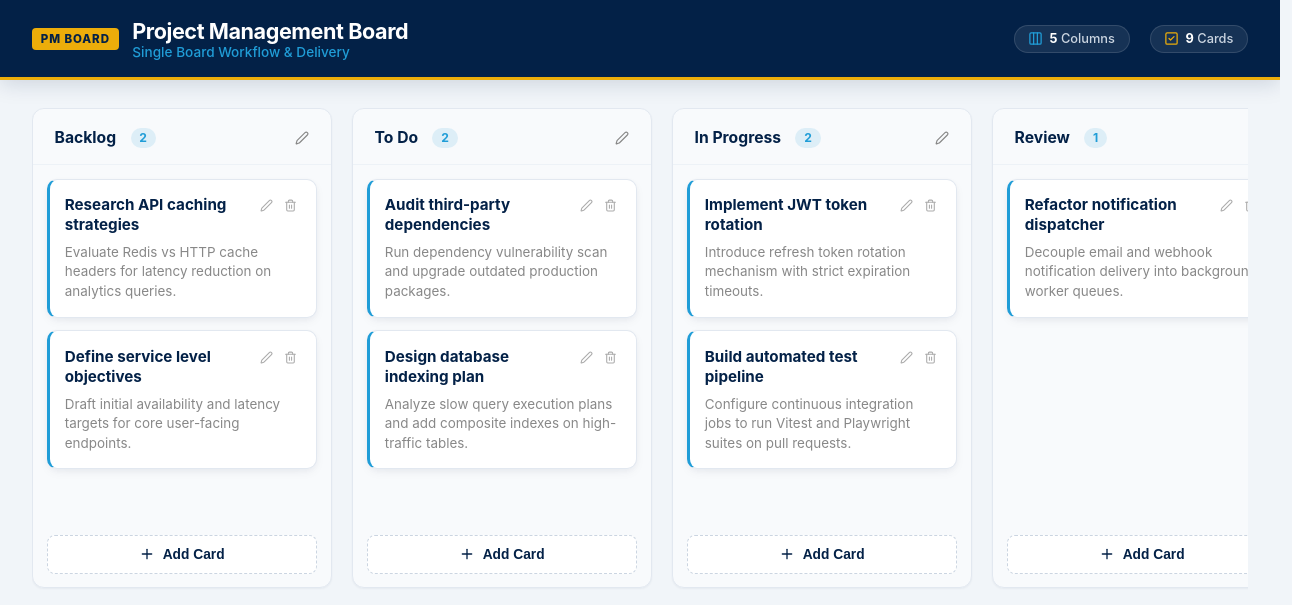
Test: KanbanBoard UI Component › allows deleting an existing card
The width and height of the screenshot is (1292, 605).
Expected: the element with test id "card-card-1" is shown, [47, 179, 317, 318]
Click the button with test id "delete-card-card-1" at (291, 205), box [280, 195, 301, 216]
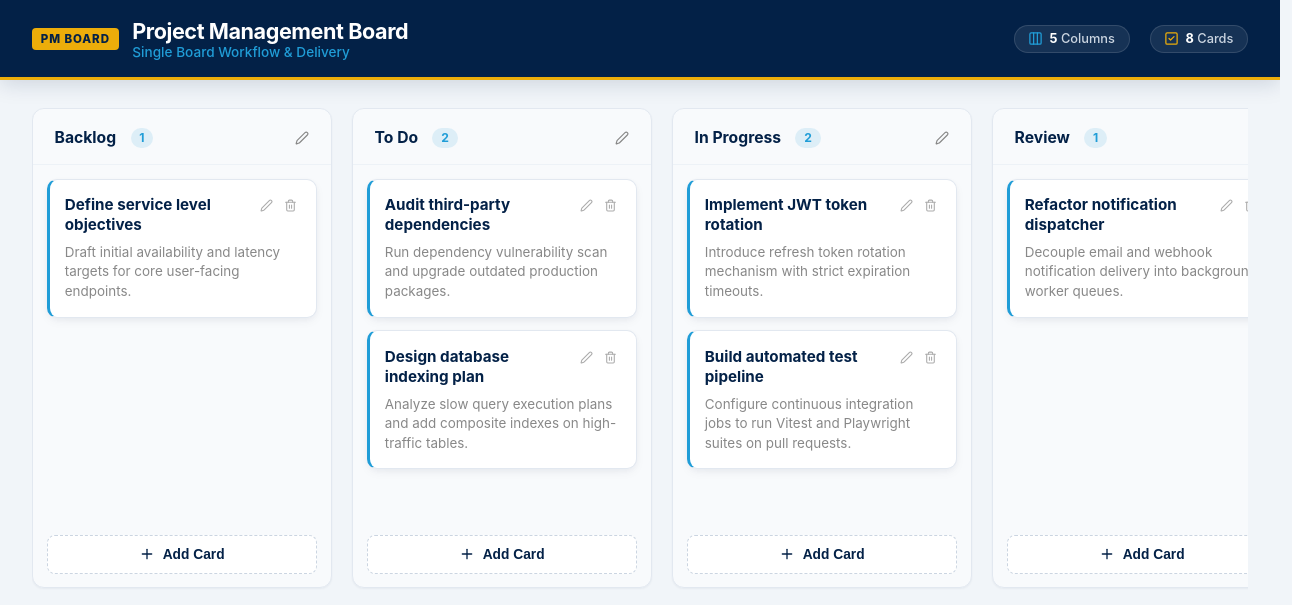
Now the element with test id "card-card-1" is gone
